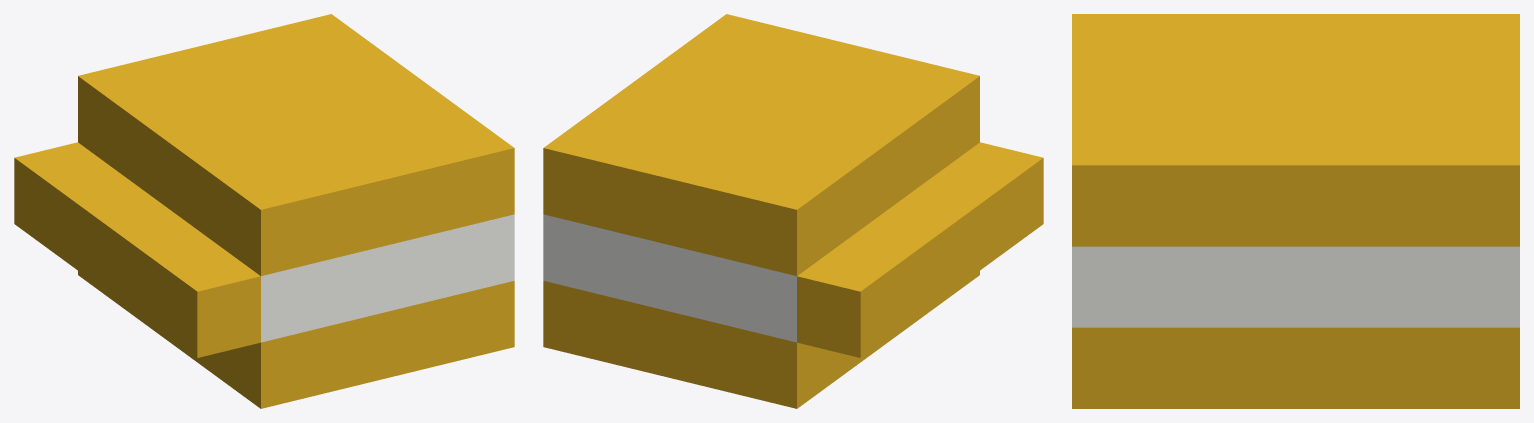
File: book2.obj
3 views of the same model, side by side, from view 1: azimuth 30°, elevation 25°; view 2: azimuth 150°, elevation 25°; view 3: azimuth 270°, elevation 25° (orthographic). The views are drawn at different scales.
Bounding box in the file's own units: 0.5 × 0.3 × 0.5.
1 material, 1 textured.
